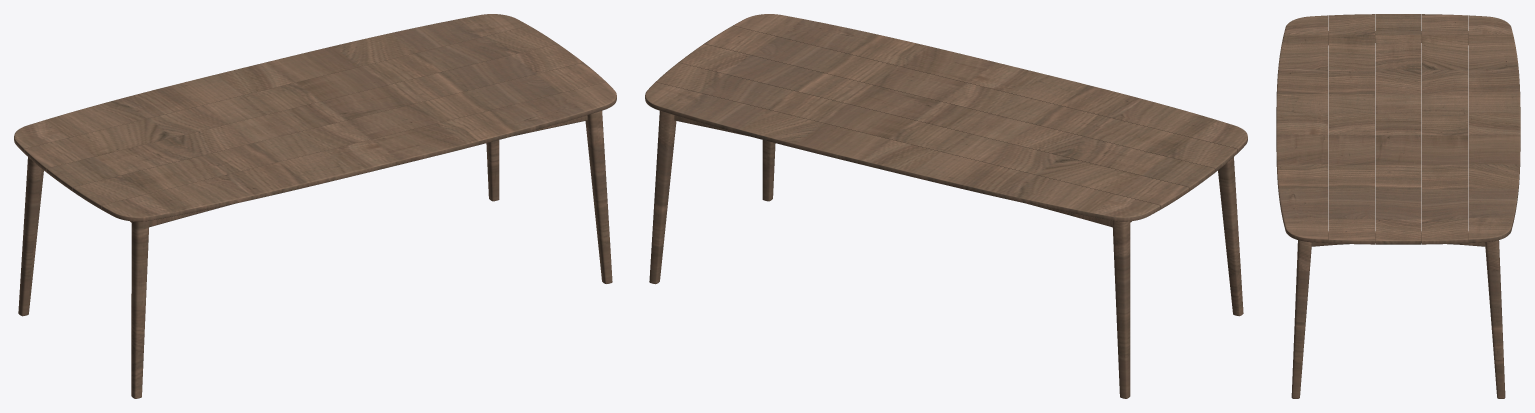
Rendered from Table.glb.
3 views of the same model, side by side, from view 1: azimuth 30°, elevation 25°; view 2: azimuth 150°, elevation 25°; view 3: azimuth 270°, elevation 25° (orthographic). The views are drawn at different scales.
Visible parts, largest first — view 1: KARPENTER GRASSHOPPER SET1; view 2: KARPENTER GRASSHOPPER SET1; view 3: KARPENTER GRASSHOPPER SET1.
Boxes of the visible parts, x1,y1,x2,y2 form: KARPENTER GRASSHOPPER SET1: (14, 14, 616, 398); KARPENTER GRASSHOPPER SET1: (645, 14, 1247, 398); KARPENTER GRASSHOPPER SET1: (1276, 14, 1520, 398).
Bounding box in the file's own units: 2.2 × 0.75 × 1.
Materials: 1 (1 with a texture image).
